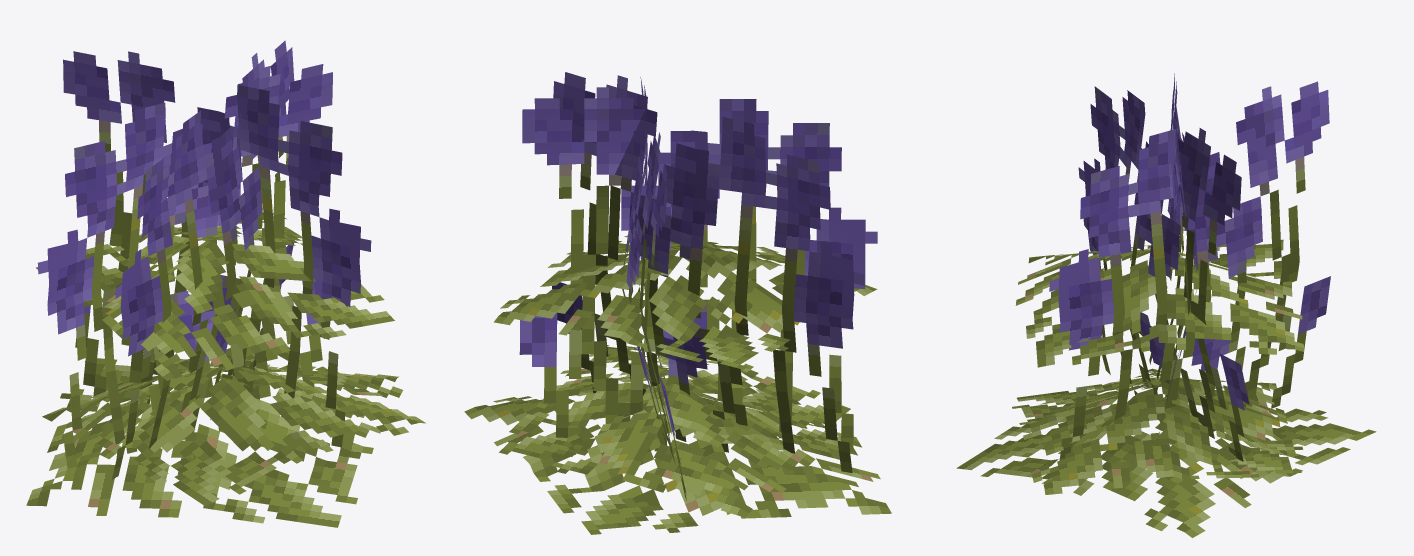
File: flower_purple.glb
The picture shows the model from 3 angles, left to right: view 1: azimuth 30°, elevation 25°; view 2: azimuth 150°, elevation 25°; view 3: azimuth 270°, elevation 25°; orthographic projection. The views are drawn at different scales.
Parts seen in each view (by area): view 1: flower_purple; view 2: flower_purple; view 3: flower_purple.
Part boxes in pixels (x1,y1,x2,y2): flower_purple: [26, 40, 425, 527]; flower_purple: [464, 72, 891, 534]; flower_purple: [956, 73, 1376, 537].
Size of the model in its own units: 0.8847 by 0.7712 by 0.8874.
Materials: 1 (1 with a texture image).
